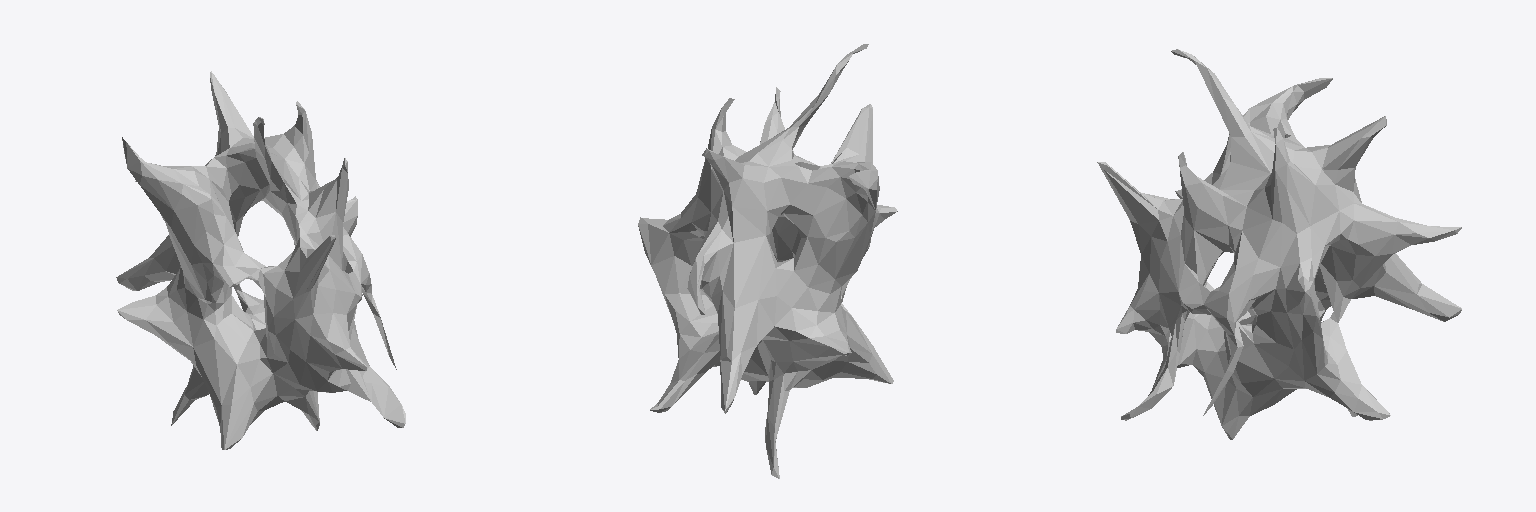
File: art_sparkler.obj
The picture shows the model from 3 angles: view 1: azimuth 30°, elevation 25°; view 2: azimuth 150°, elevation 25°; view 3: azimuth 270°, elevation 25°; orthographic projection.
Parts seen in each view (by area): view 1: art_twis_Icosphere; view 2: art_twis_Icosphere; view 3: art_twis_Icosphere.
Boxes of the visible parts, x1,y1,x2,y2 form: art_twis_Icosphere: [116, 71, 405, 449]; art_twis_Icosphere: [638, 44, 897, 478]; art_twis_Icosphere: [1097, 49, 1461, 439].
Size of the model in its own units: 2.96 by 4.57 by 4.09.